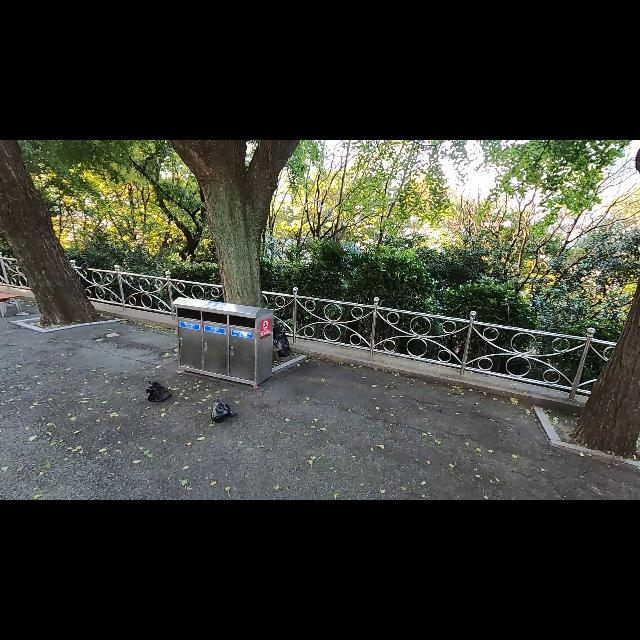trash: (144, 378, 174, 410), (210, 397, 237, 427), (275, 324, 293, 358)
